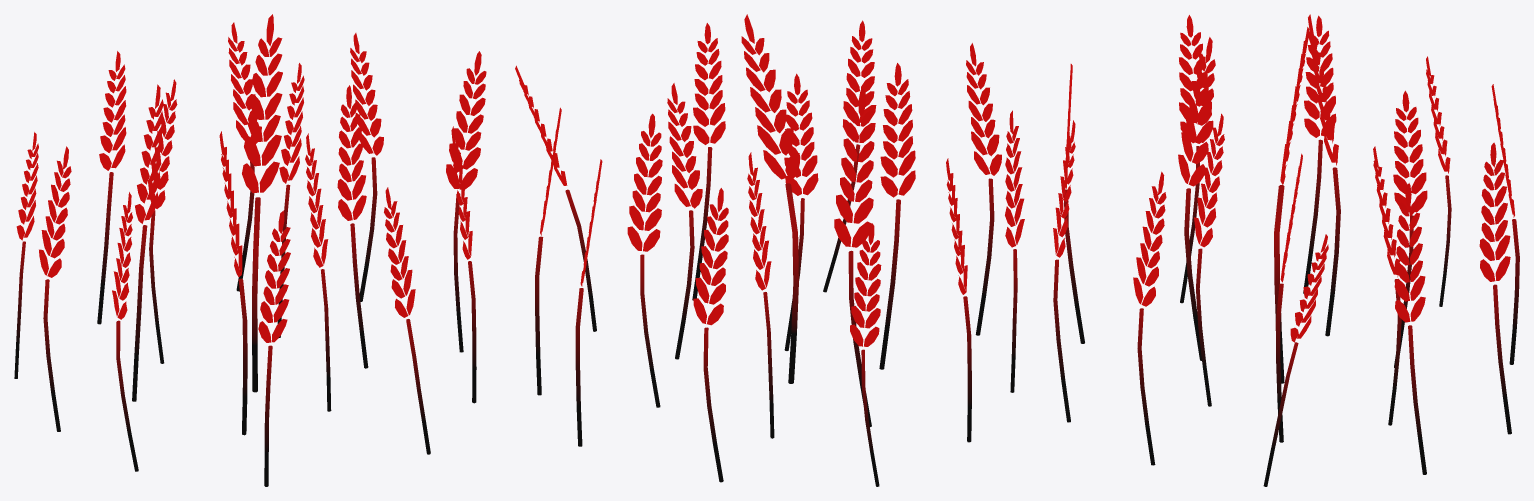
File: S_Wheat.fbx
3 renders of one model, left to right at view 1: azimuth 30°, elevation 25°; view 2: azimuth 150°, elevation 25°; view 3: azimuth 270°, elevation 25°, orthographic. The views are drawn at different scales.
Parts seen in each view (by area): view 1: Wheat; view 2: Wheat; view 3: Wheat.
Boxes of the visible parts, box(x1,y1,x2,y2) form: Wheat: box(14, 14, 486, 486); Wheat: box(515, 14, 1024, 486); Wheat: box(1053, 14, 1519, 486).
Bounding box in the file's own units: 90.06 × 71.32 × 80.28.
